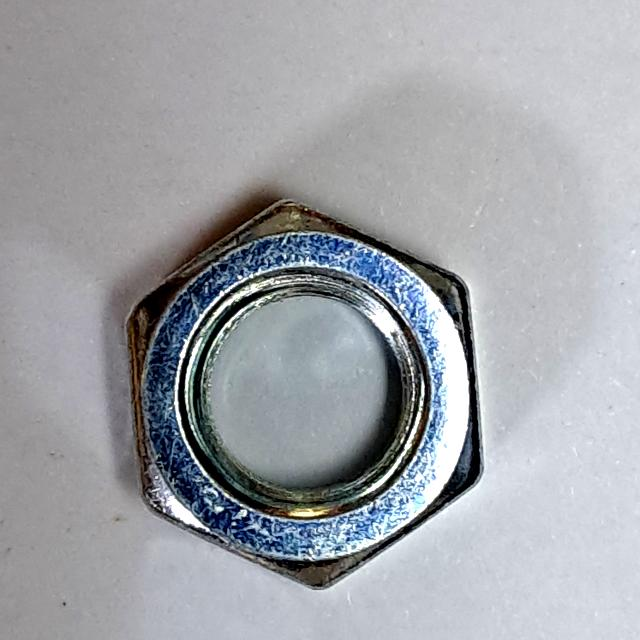Excellent: (107, 183, 496, 601)
